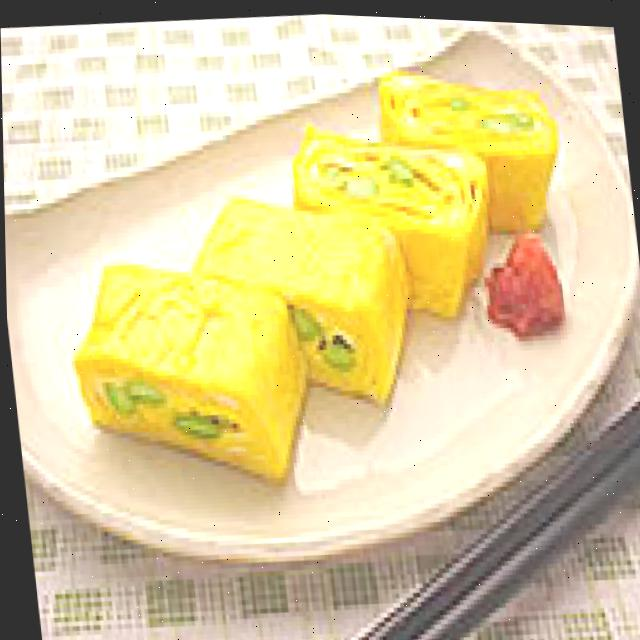鸡蛋料理: (27, 26, 588, 493)
